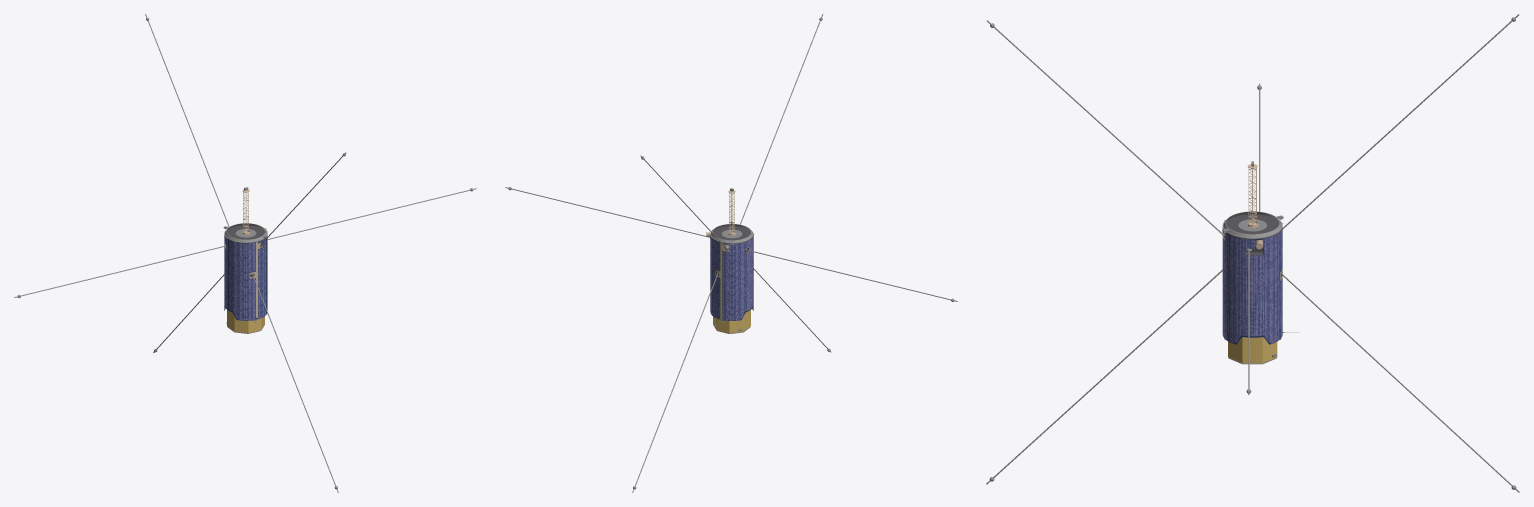
The model's file is Atmosphere-Space Transition Region Explorer (ASTRE).glb.
The picture shows the model from 3 angles, left to right: view 1: azimuth 30°, elevation 25°; view 2: azimuth 150°, elevation 25°; view 3: azimuth 270°, elevation 25°; orthographic projection. The views are drawn at different scales.
Visible parts, largest first — view 1: solarpanels, main body, booms, main bottom; view 2: solarpanels, main body, booms, main bottom; view 3: solarpanels, main body, booms, main bottom.
Boxes of the visible parts, x1,y1,x2,y2 form: solarpanels: (224,235,267,320); main body: (223,223,267,320); booms: (14,14,476,492); main bottom: (226,309,264,333); solarpanels: (710,236,753,320); main body: (709,222,753,321); booms: (505,14,957,492); main bottom: (713,310,750,333); solarpanels: (1222,228,1282,343); main body: (1222,211,1298,344); booms: (986,14,1519,492); main bottom: (1224,337,1281,364).
Bounding box in the file's own units: 110 × 78.27 × 80.01.
